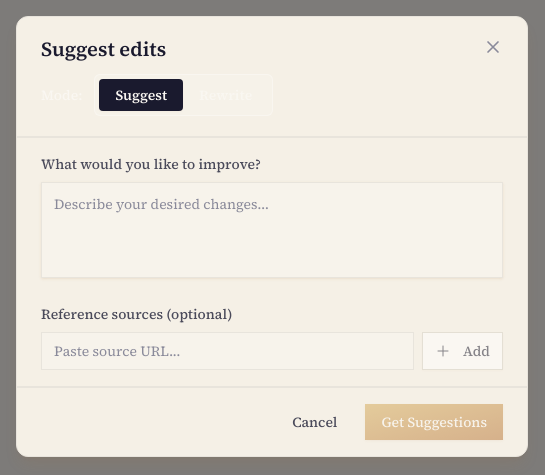
Scenario: AdvancedAIEditorModal › Dynamic Header › should update header when output mode toggle is changed
Expected: the heading "Suggest edits" is shown, [41, 34, 166, 62]
// Click rewrite button
Click the radio button with test id "output-mode-rewrite": click(226, 94) [183, 78, 268, 110]
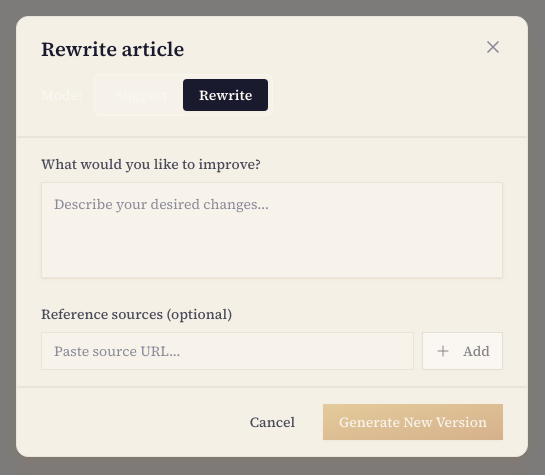
Result: the heading "Rewrite article" is shown at [41, 34, 184, 62]
